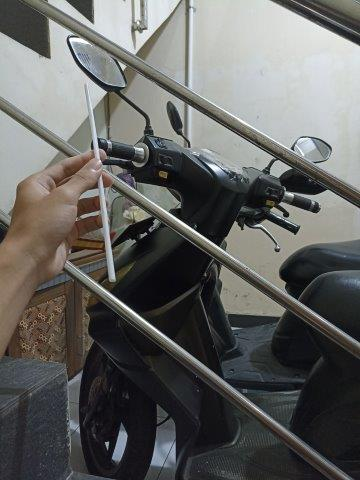sedotan: (85, 83, 115, 281)
